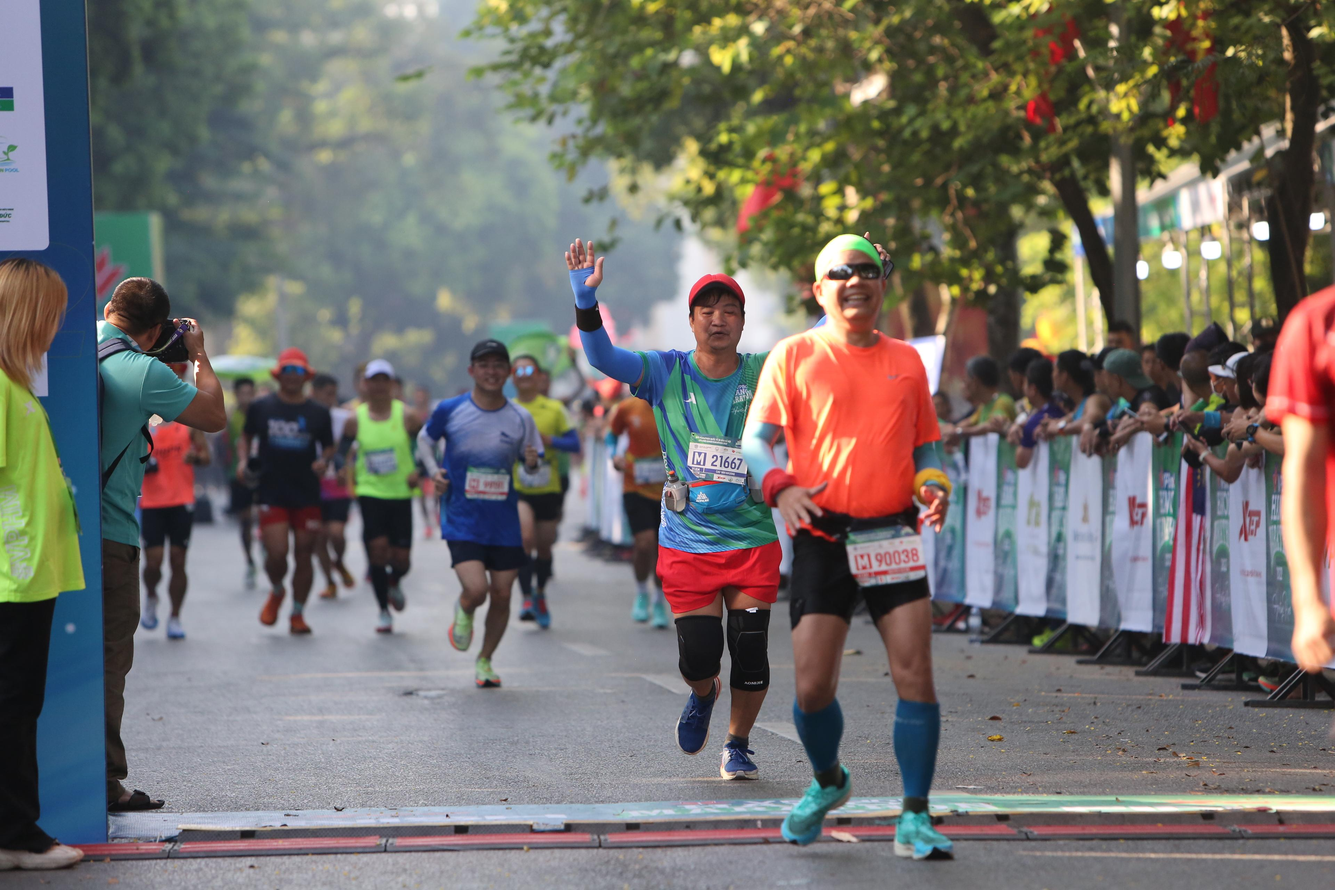bib: (843, 529, 926, 585), (685, 432, 749, 485), (464, 463, 511, 502), (361, 449, 398, 474)
